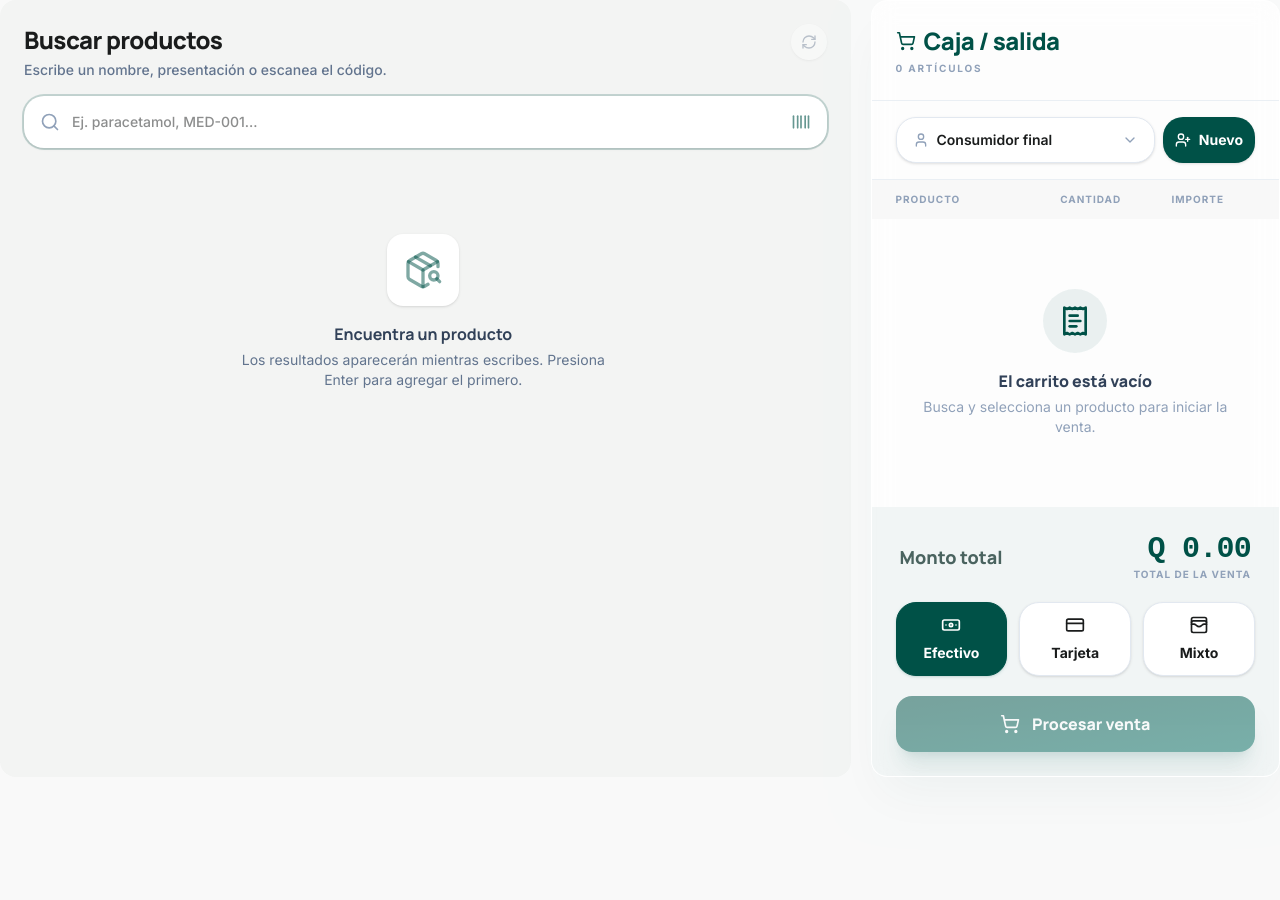
Test: PuntoVenta › permite seleccionar un cliente existente
Click the button "Consumidor final": (1025, 140) [896,117,1155,163]
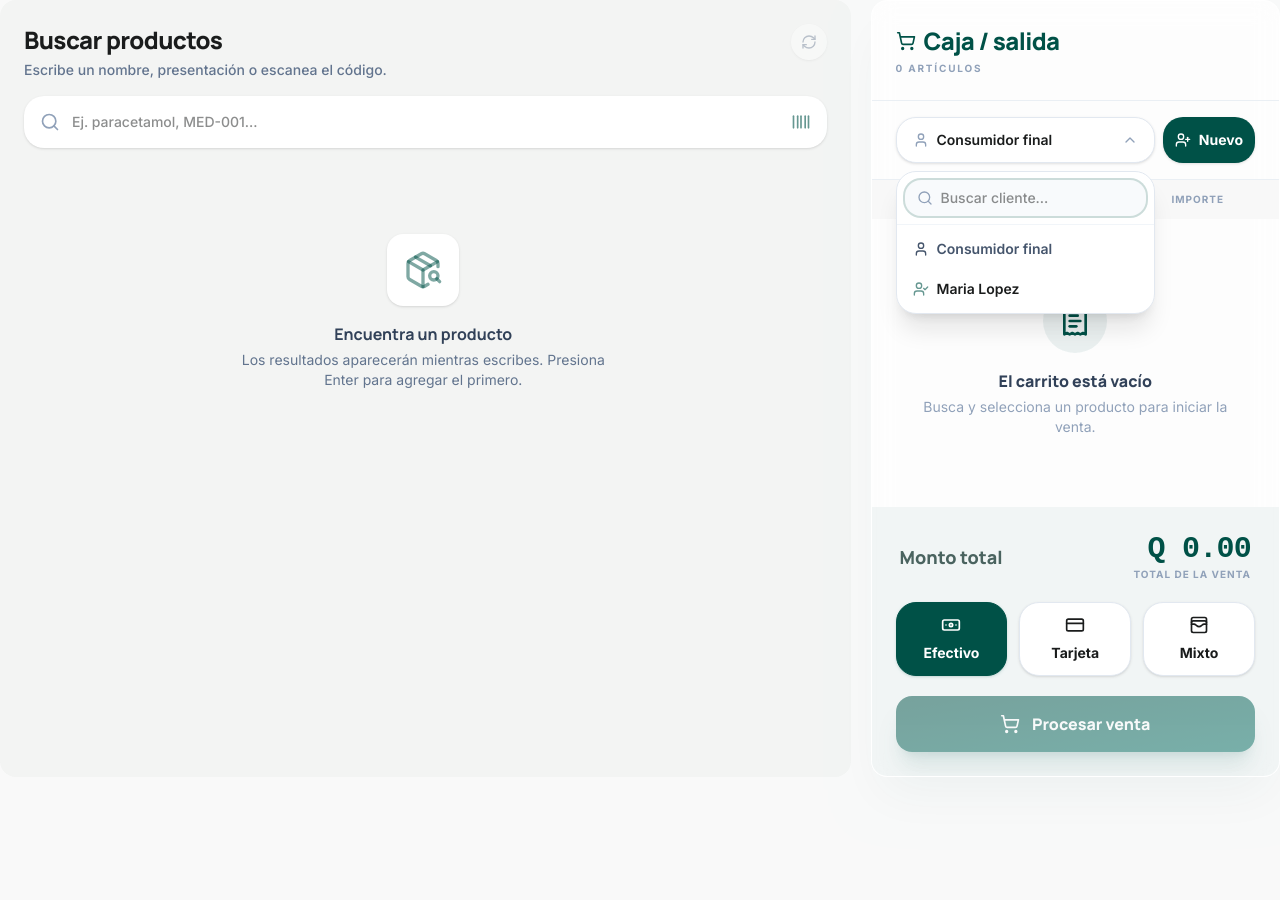
Click the button "Maria Lopez": (1025, 289) [896,269,1154,309]
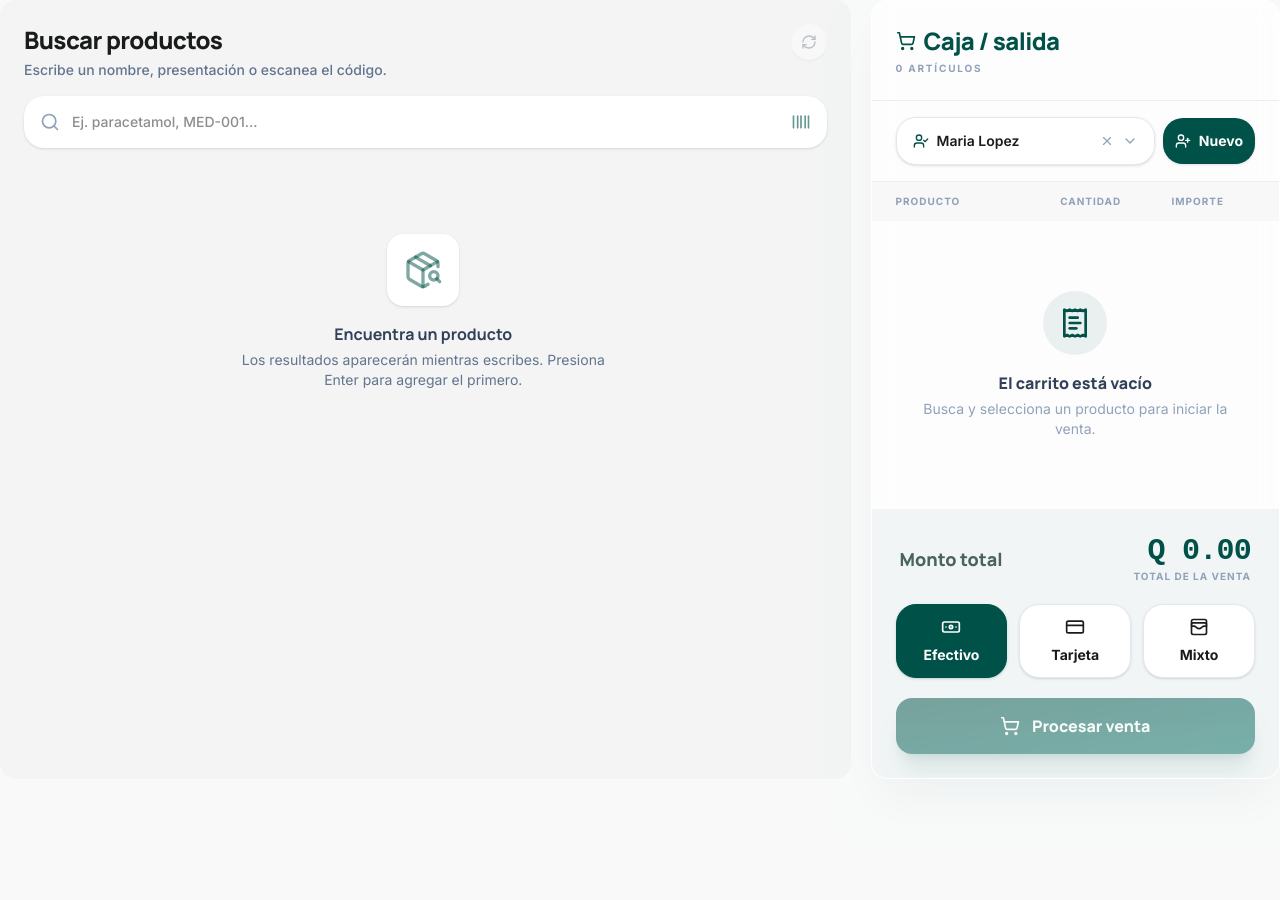
Check: the text "Maria Lopez" is shown, box [936,131,1020,151]
